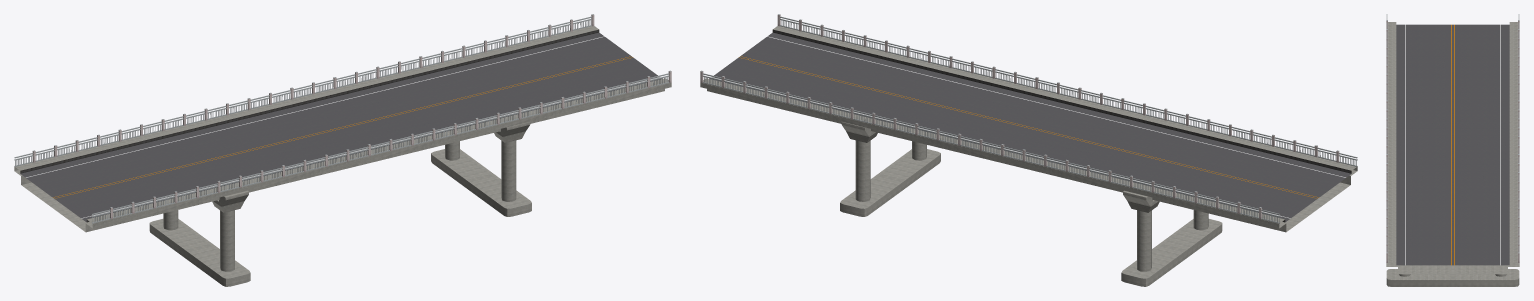
Rendered from qiao2.FBX.
3 views of the same model, side by side, from view 1: azimuth 30°, elevation 25°; view 2: azimuth 150°, elevation 25°; view 3: azimuth 270°, elevation 25° (orthographic). The views are drawn at different scales.
Parts seen in each view (by area): view 1: qiao2; view 2: qiao2; view 3: qiao2.
Boxes of the visible parts, box(x1,y1,x2,y2) form: qiao2: box(14, 14, 671, 286); qiao2: box(700, 14, 1357, 286); qiao2: box(1386, 14, 1519, 286).
Size of the model in its own units: 6199 by 1103 by 1453.
Materials: 7 (7 with a texture image).
